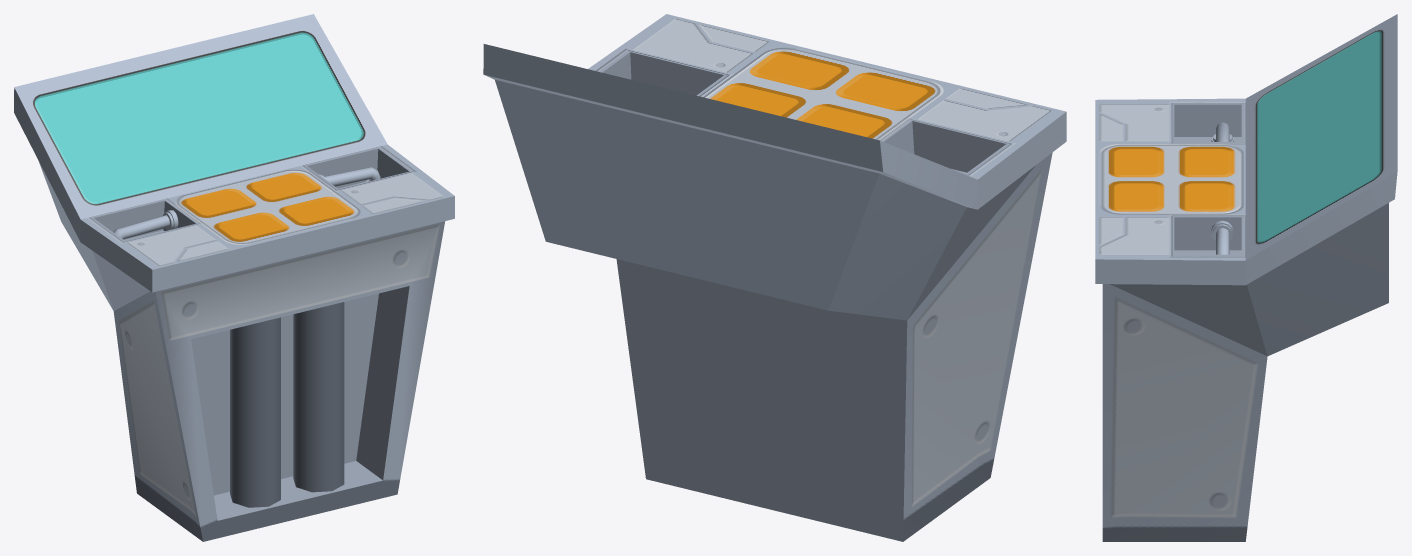
Rendered from Envi10.dae.
3 renders of one model, left to right at view 1: azimuth 30°, elevation 25°; view 2: azimuth 150°, elevation 25°; view 3: azimuth 270°, elevation 25°, orthographic. The views are drawn at different scales.
Visible parts, largest first — view 1: NurbsPath.012; view 2: NurbsPath.012; view 3: NurbsPath.012.
Boxes of the visible parts, <box> form: NurbsPath.012: <box>14,14,454,541</box>; NurbsPath.012: <box>483,14,1066,541</box>; NurbsPath.012: <box>1095,14,1397,541</box>.
Size of the model in its own units: 1.24 by 0.9782 by 1.42.
